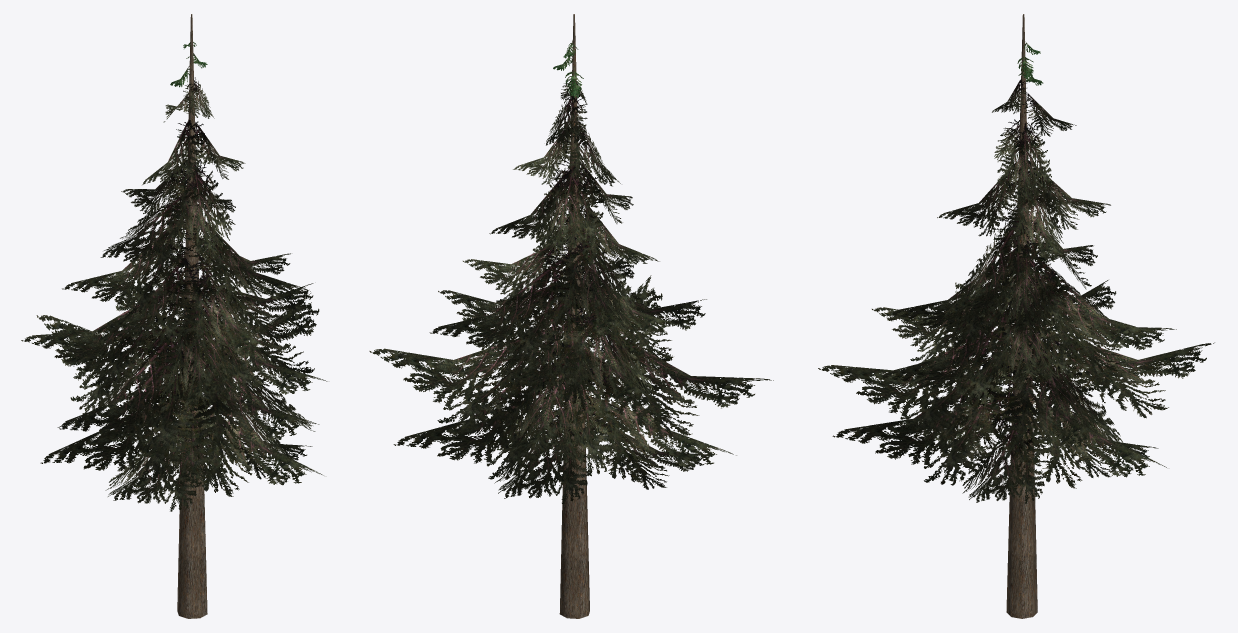
The model's file is ever_pinetree_small_l0.fbx.
3 views of the same model, side by side, from view 1: azimuth 30°, elevation 25°; view 2: azimuth 150°, elevation 25°; view 3: azimuth 270°, elevation 25° (orthographic).
Visible parts, largest first — view 1: mesh_node; view 2: mesh_node; view 3: mesh_node.
Boxes of the visible parts, x1,y1,x2,y2 form: mesh_node: (21,14,327,618); mesh_node: (369,14,773,618); mesh_node: (818,14,1214,618).
Size of the model in its own units: 6.12 by 10.12 by 6.35.
